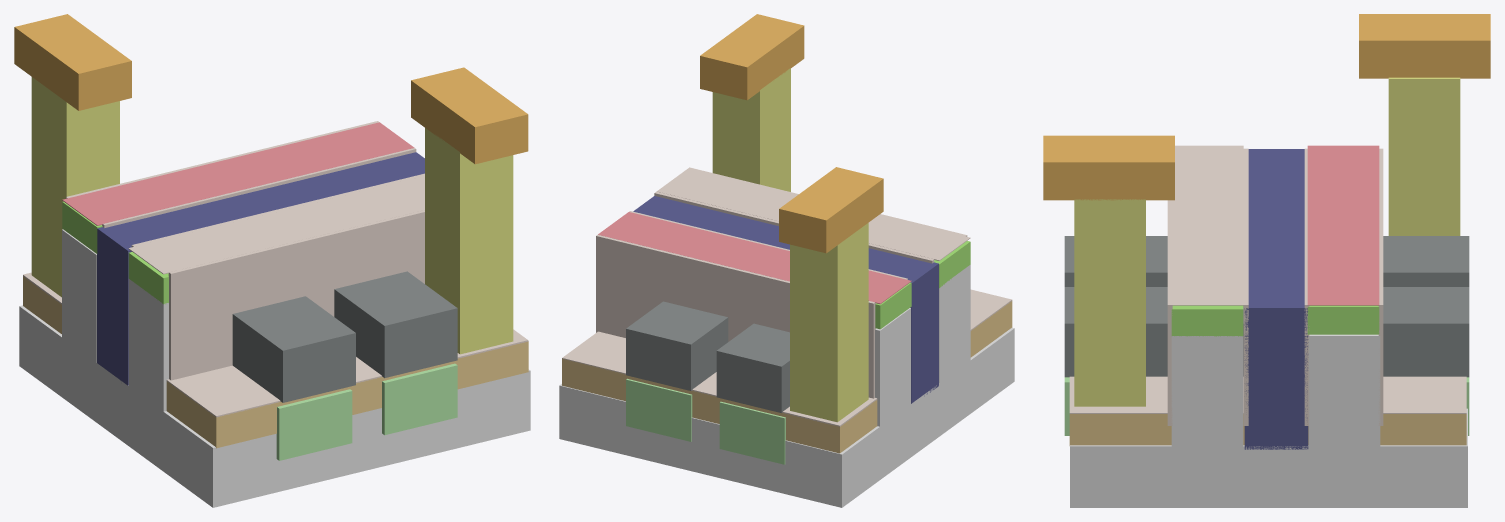
The model's file is finfet_interconnect.glb.
3 views of the same model, side by side, from view 1: azimuth 30°, elevation 25°; view 2: azimuth 150°, elevation 25°; view 3: azimuth 270°, elevation 25° (orthographic). The views are drawn at different scales.
Visible parts, largest first — view 1: Cube, Cube.012, Cube.019, Cube.018, Cube.020, Cube.004, Cube.017, Cube.008, Cube.014, Cube.006, Cube.022, Cube.021 (+10 smaller); view 2: Cube, Cube.020, Cube.013, Cube.018, Cube.019, Cube.014, Cube.006, Cube.004, Cube.008, Cube.022, Cube.021, Cube.017 (+8 smaller); view 3: Cube, Cube.018, Cube.019, Cube.004, Cube.020, Cube.008, Cube.014, Cube.002, Cube.021, Cube.022, Cube.001, Cube.017 (+9 smaller).
Boxes of the visible parts, bbox=[...] form: Cube: bbox=[19, 305, 530, 507]; Cube.012: bbox=[168, 210, 424, 380]; Cube.019: bbox=[425, 128, 513, 354]; Cube.018: bbox=[97, 152, 424, 385]; Cube.020: bbox=[31, 77, 119, 297]; Cube.004: bbox=[62, 122, 414, 225]; Cube.017: bbox=[232, 296, 355, 402]; Cube.008: bbox=[128, 176, 424, 274]; Cube.014: bbox=[334, 271, 457, 378]; Cube.006: bbox=[23, 276, 528, 448]; Cube.022: bbox=[14, 14, 131, 110]; Cube.021: bbox=[411, 67, 528, 164]; Cube: bbox=[559, 327, 1014, 507]; Cube.020: bbox=[790, 223, 868, 422]; Cube.013: bbox=[596, 234, 875, 398]; Cube.018: bbox=[633, 196, 938, 403]; Cube.019: bbox=[712, 68, 790, 191]; Cube.014: bbox=[626, 301, 728, 390]; Cube.006: bbox=[562, 301, 1012, 453]; Cube.004: bbox=[598, 212, 911, 304]; Cube.008: bbox=[657, 169, 970, 260]; Cube.022: bbox=[779, 167, 883, 253]; Cube.021: bbox=[700, 14, 804, 100]; Cube.017: bbox=[716, 323, 789, 412]; Cube: bbox=[1070, 408, 1467, 507]; Cube.018: bbox=[1244, 149, 1308, 449]; Cube.019: bbox=[1074, 199, 1145, 406]; Cube.004: bbox=[1307, 145, 1379, 305]; Cube.020: bbox=[1388, 77, 1460, 235]; Cube.008: bbox=[1172, 145, 1243, 305]; Cube.014: bbox=[1064, 287, 1469, 377]; Cube.002: bbox=[1308, 334, 1380, 454]; Cube.021: bbox=[1043, 135, 1174, 200]; Cube.022: bbox=[1359, 14, 1490, 78]; Cube.001: bbox=[1171, 336, 1243, 449]; Cube.017: bbox=[1064, 236, 1469, 286].
Bounding box in the file's own units: 2.2 × 2.18 × 2.62.
